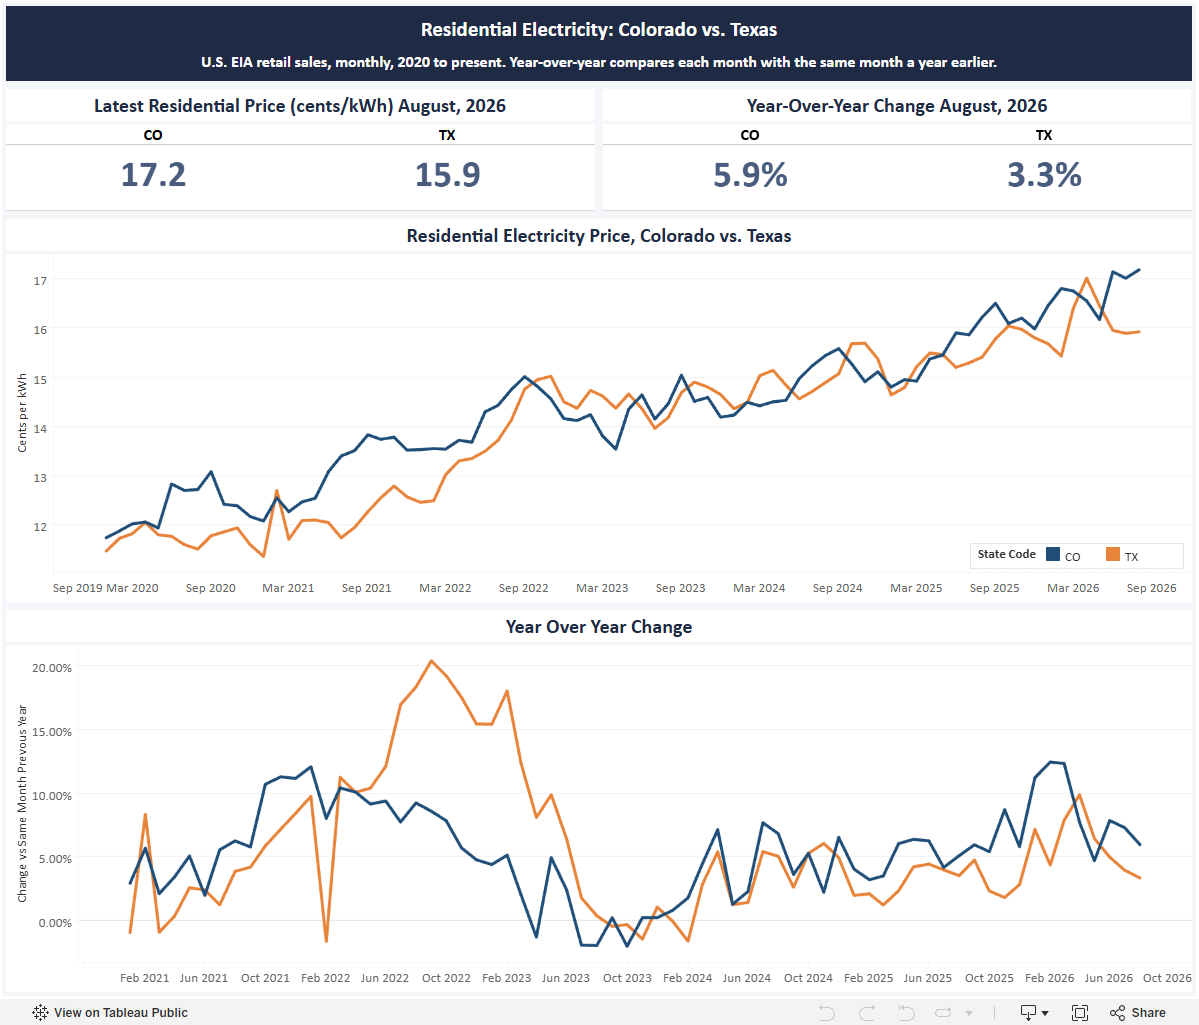

The dashboard page shown, as its layout file describes it:
{"tool":"powerbi","page":{"name":"Page 1","canvas":[1200,1000],"ordinal":0},"visuals":[{"type":"lineChart","title":"Residential Electricity Price: Colorado vs Texas","fields":{"Category":["mart_price_yoy.period_month"],"Series":["mart_price_yoy.state_name"],"Y":["Avg(mart_price_yoy.price_cents_per_kwh)"]},"box":[11,213,1179,364],"z":0},{"type":"cardVisual","fields":{"Data":["mart_price_yoy.CO Latest Price"]},"box":[11,121,285,83],"z":1000},{"type":"cardVisual","fields":{"Data":["mart_price_yoy.TX Latest Price"]},"box":[313,121,286,83],"z":2000},{"type":"cardVisual","fields":{"Data":["mart_price_yoy.TX YoY Change"]},"box":[911,121,279,83],"z":3000},{"type":"cardVisual","fields":{"Data":["mart_price_yoy.CO YoY Change"]},"box":[616,121,278,83],"z":4000},{"type":"textbox","box":[11,11,1179,61],"z":5000},{"type":"textbox","box":[11,80,588,33],"z":6000},{"type":"textbox","box":[616,81,574,33],"z":7000},{"type":"lineChart","title":"Year over Year Chnage","fields":{"Category":["mart_price_yoy.period_month"],"Series":["mart_price_yoy.state_name"],"Y":["Avg(mart_price_yoy.yoy_change_pct)"]},"box":[11,586,1179,402],"z":8000}]}

Visuals, with their boxes on the page's 1200x1000 design canvas (x1, y1, x2, y2). These are canvas units, not pixel positions in the 1199x1025 screenshot, which may show the page scaled, cropped or inside an application window:
"Residential Electricity Price: Colorado vs Texas" lineChart: bbox=(11, 213, 1190, 577)
cardVisual - mart_price_yoy.CO Latest Price: bbox=(11, 121, 296, 204)
cardVisual - mart_price_yoy.TX Latest Price: bbox=(313, 121, 599, 204)
cardVisual - mart_price_yoy.TX YoY Change: bbox=(911, 121, 1190, 204)
cardVisual - mart_price_yoy.CO YoY Change: bbox=(616, 121, 894, 204)
textbox: bbox=(11, 11, 1190, 72)
textbox: bbox=(11, 80, 599, 113)
textbox: bbox=(616, 81, 1190, 114)
"Year over Year Chnage" lineChart: bbox=(11, 586, 1190, 988)
